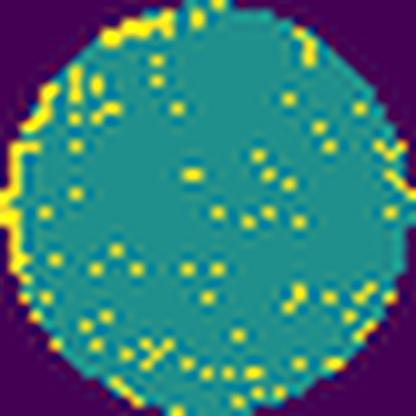Edge-Loc: (0, 136, 46, 280), (102, 11, 180, 46)
